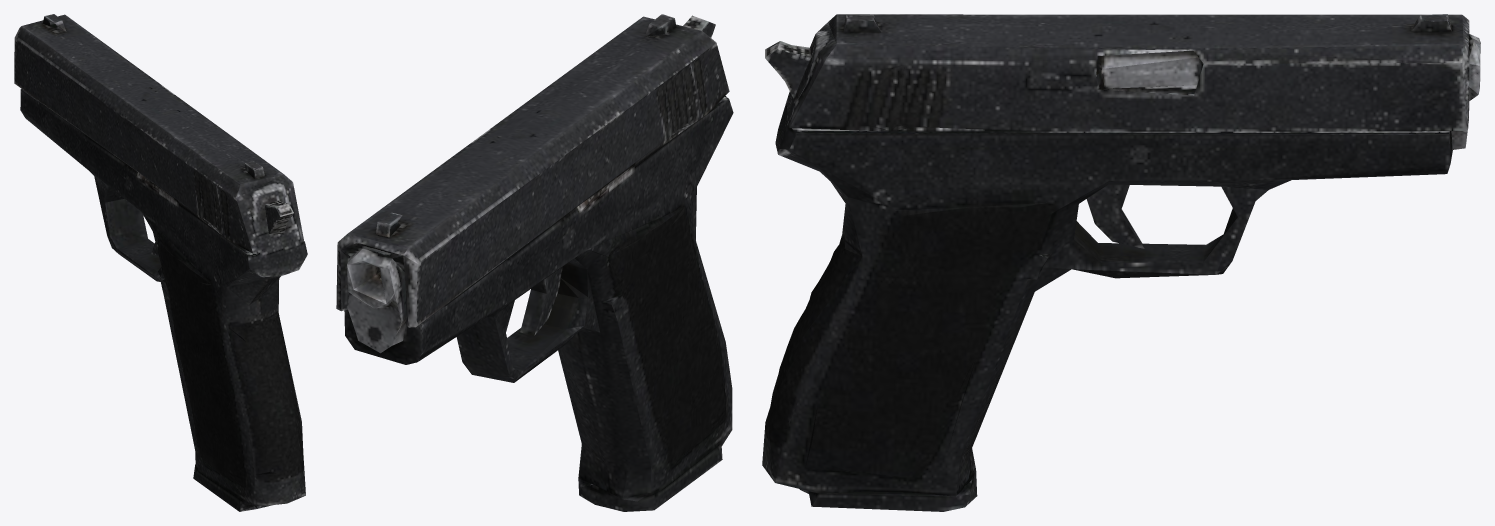
Rendered from standard_tp.glb.
3 renders of one model, left to right at view 1: azimuth 30°, elevation 25°; view 2: azimuth 150°, elevation 25°; view 3: azimuth 270°, elevation 25°, orthographic. The views are drawn at different scales.
Visible parts, largest first — view 1: standard_tp; view 2: standard_tp; view 3: standard_tp.
Part boxes in pixels (left/top/right/bottom): standard_tp: left=14, top=14, right=307, bottom=511; standard_tp: left=336, top=14, right=733, bottom=511; standard_tp: left=762, top=14, right=1480, bottom=511.
Bounding box in the file's own units: 0.0293 × 0.143 × 0.1963.
1 material, 1 textured.
